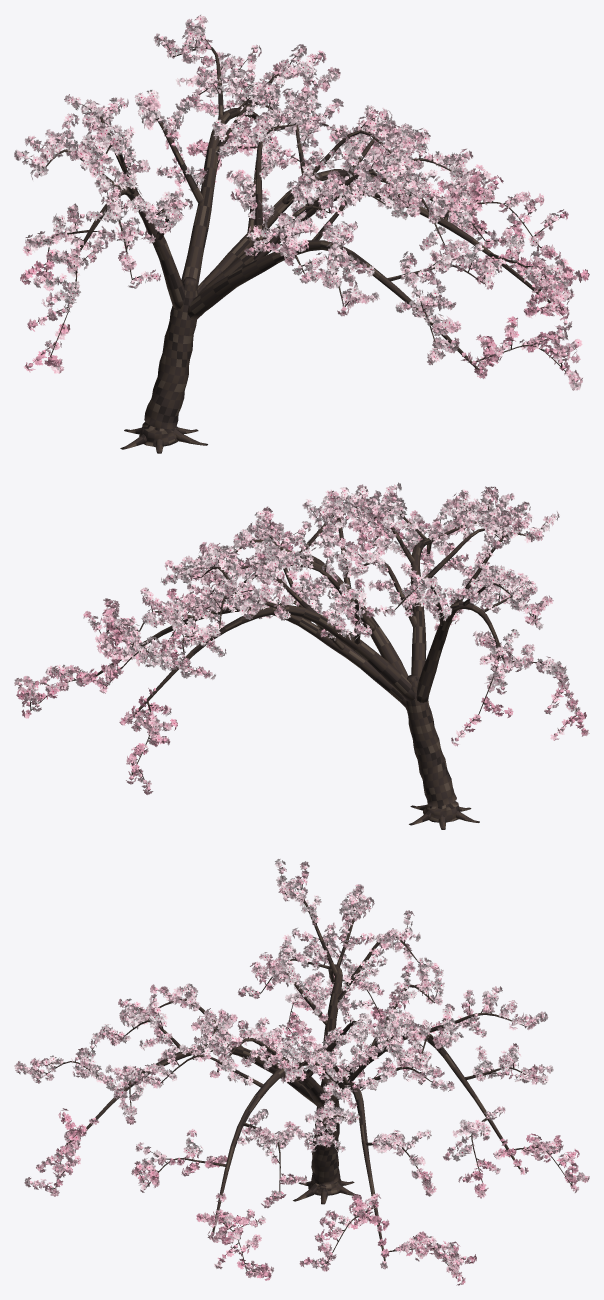
Rendered from cherry-canal-arching.glb.
3 renders of one model, top to bottom at view 1: azimuth 30°, elevation 25°; view 2: azimuth 150°, elevation 25°; view 3: azimuth 270°, elevation 25°, orthographic. The views are drawn at different scales.
Visible parts, largest first — view 1: canal-arching-03-Five-petal-blossoms, canal-arching-01-Trunk-limbs-and-branches, canal-arching-02-Twigs-and-pedicels; view 2: canal-arching-03-Five-petal-blossoms, canal-arching-01-Trunk-limbs-and-branches, canal-arching-02-Twigs-and-pedicels; view 3: canal-arching-03-Five-petal-blossoms, canal-arching-01-Trunk-limbs-and-branches, canal-arching-02-Twigs-and-pedicels.
Part boxes in pixels (box(x1,y1,x2,y2)): canal-arching-03-Five-petal-blossoms: box(14, 15, 589, 390); canal-arching-01-Trunk-limbs-and-branches: box(39, 46, 567, 453); canal-arching-02-Twigs-and-pedicels: box(27, 24, 579, 380); canal-arching-03-Five-petal-blossoms: box(14, 482, 589, 794); canal-arching-01-Trunk-limbs-and-branches: box(31, 506, 576, 829); canal-arching-02-Twigs-and-pedicels: box(20, 493, 582, 783); canal-arching-03-Five-petal-blossoms: box(14, 859, 589, 1285); canal-arching-01-Trunk-limbs-and-branches: box(41, 893, 571, 1277); canal-arching-02-Twigs-and-pedicels: box(25, 867, 577, 1278).
Bounding box in the file's own units: 11.51 × 6.96 × 12.36.
